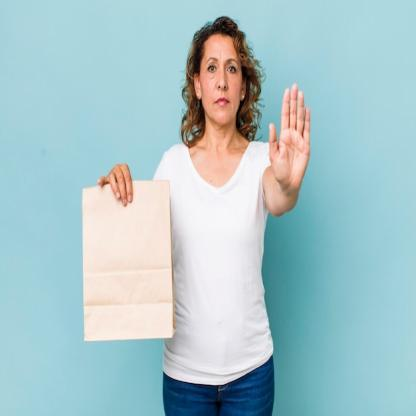stop: (266, 80, 314, 192)
